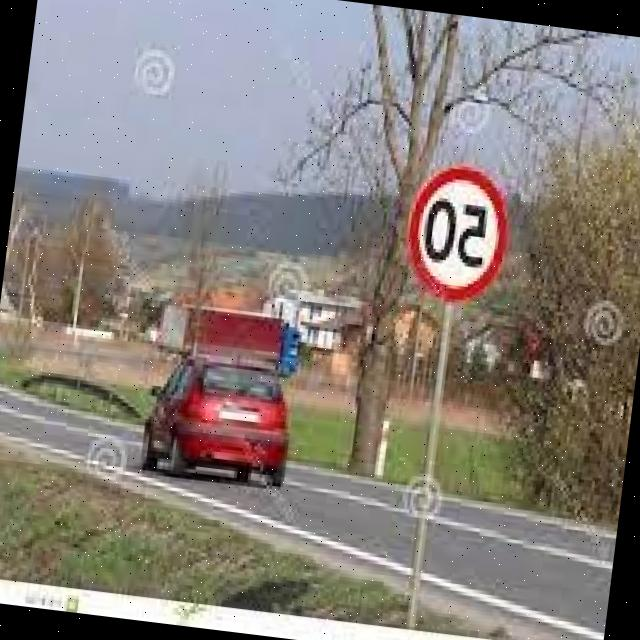speed_limit_50: (392, 148, 519, 310)
